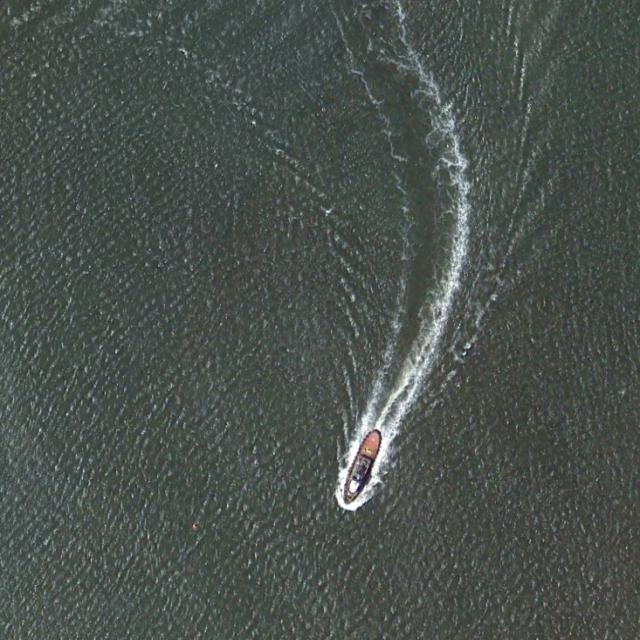Hovercraft: (335, 426, 386, 507)
